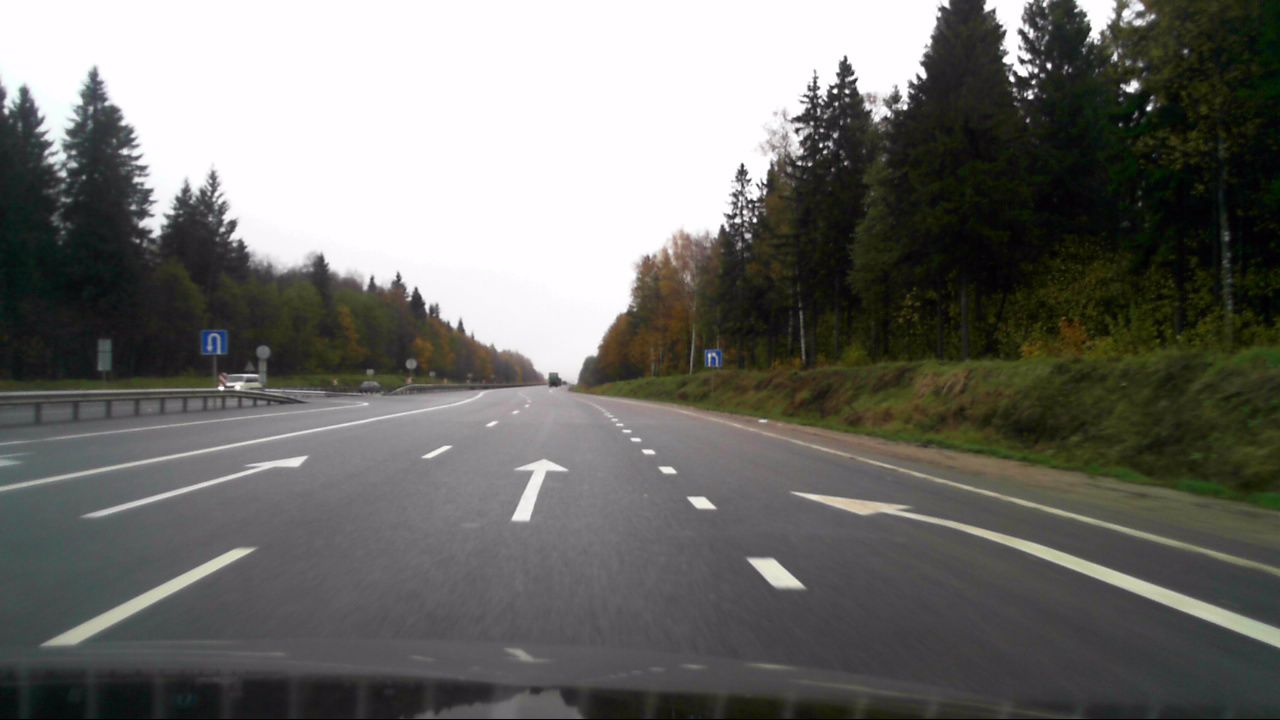U-turn: (201, 330, 227, 354)
